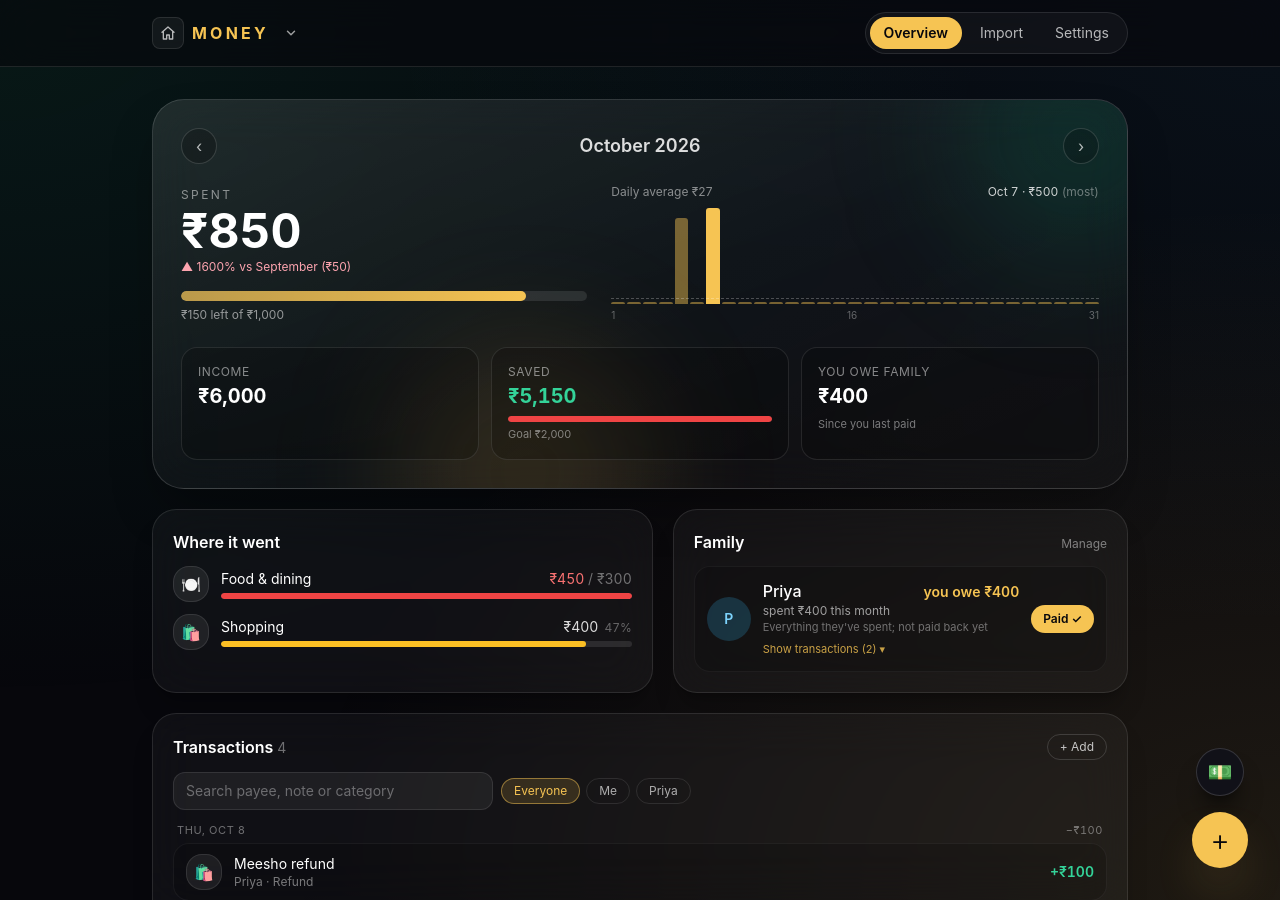
Test: MoneyPage › shows the month's totals, limits and what family is owed
Expected: the heading "October 2026" is shown, x1=580 y1=132 x2=700 y2=160
Expected: the text with test id "spent" reads "₹850", x1=181 y1=201 x2=302 y2=260
Click the button with aria-label "Mark ₹400 paid to Priya".
click(1063, 619)  # box x1=1031 y1=605 x2=1094 y2=633
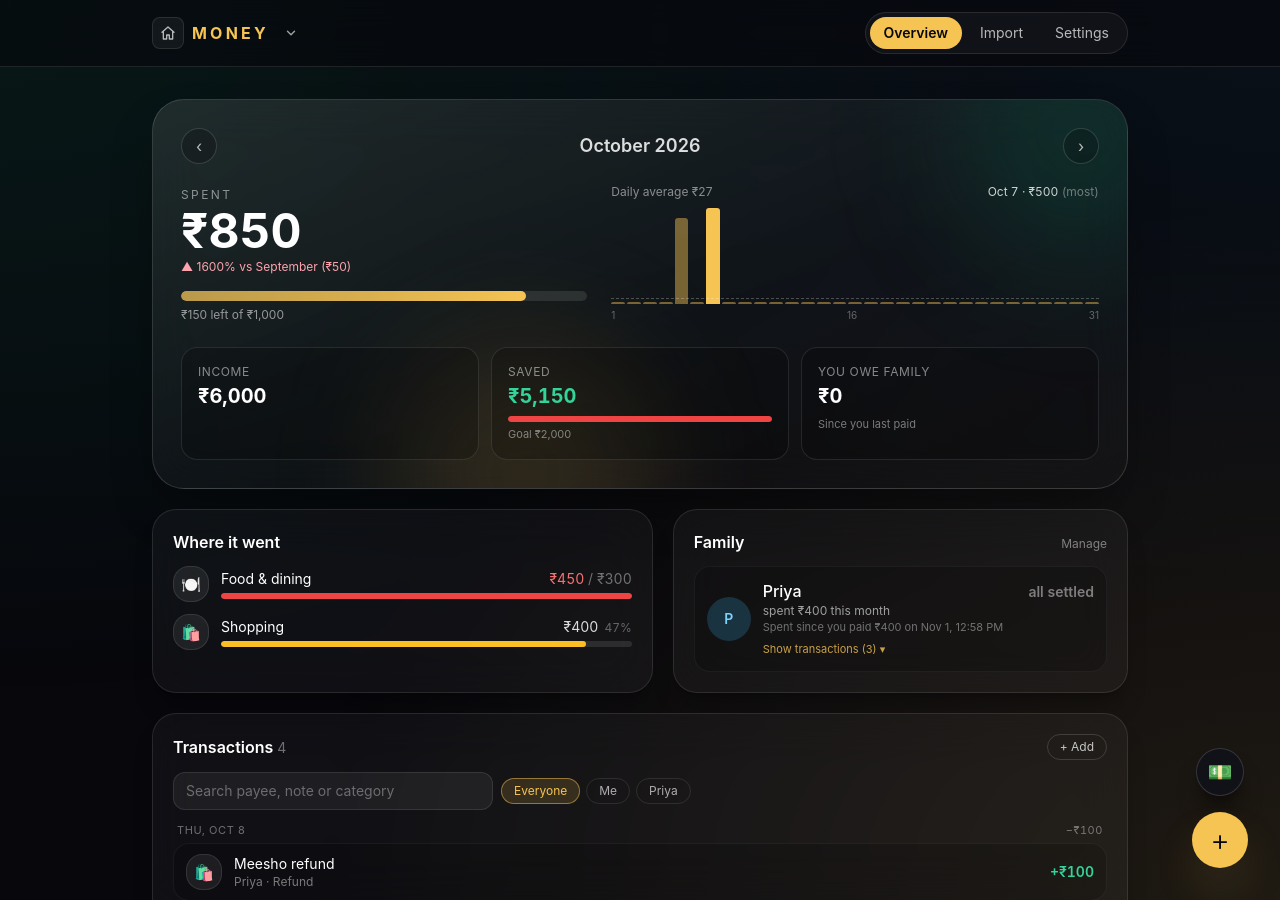
Now the text "all settled" is shown, box x1=1028 y1=582 x2=1094 y2=602
